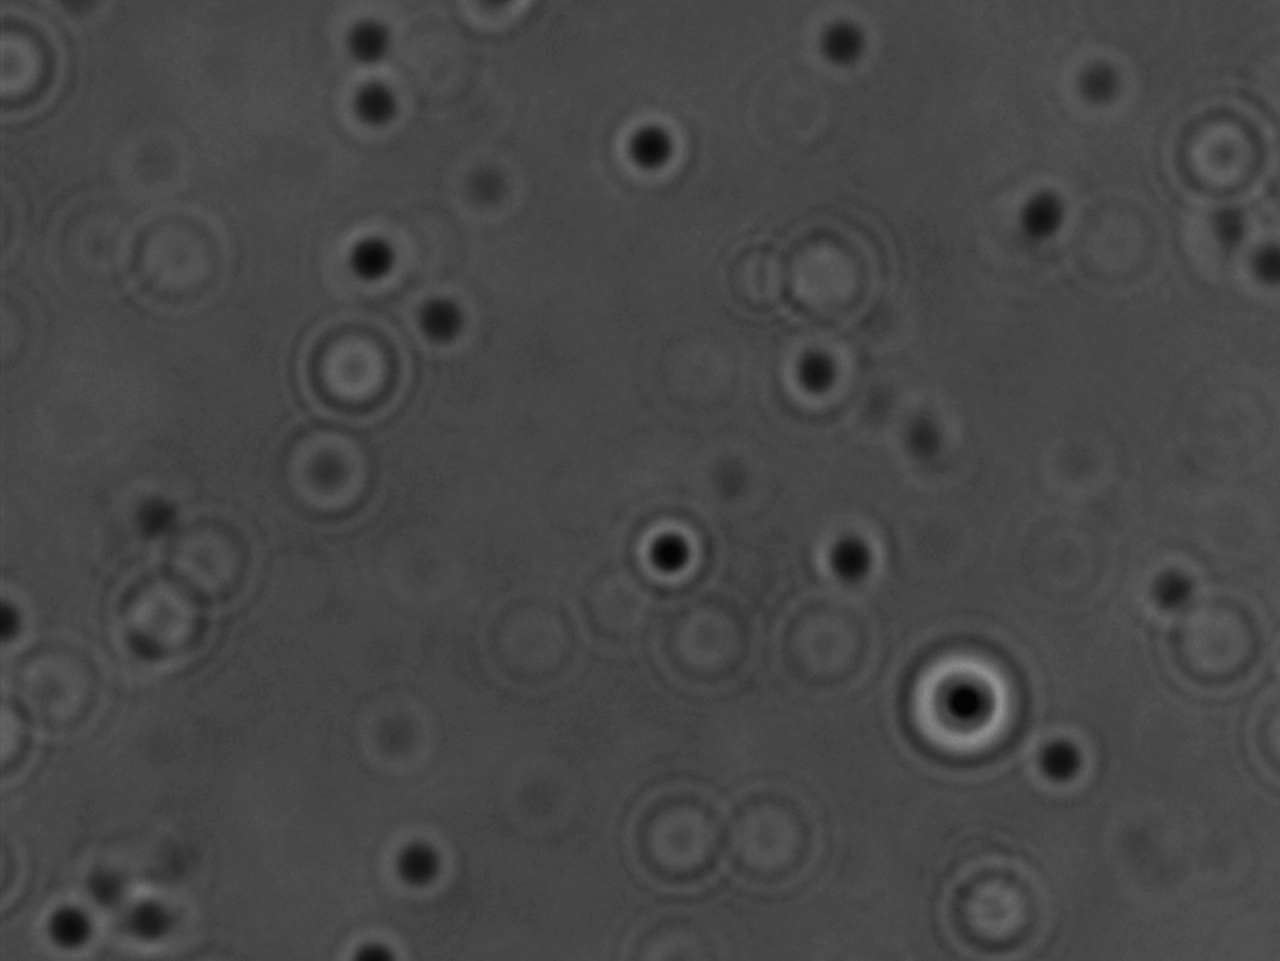depth:-24: (891, 627, 1038, 775)
